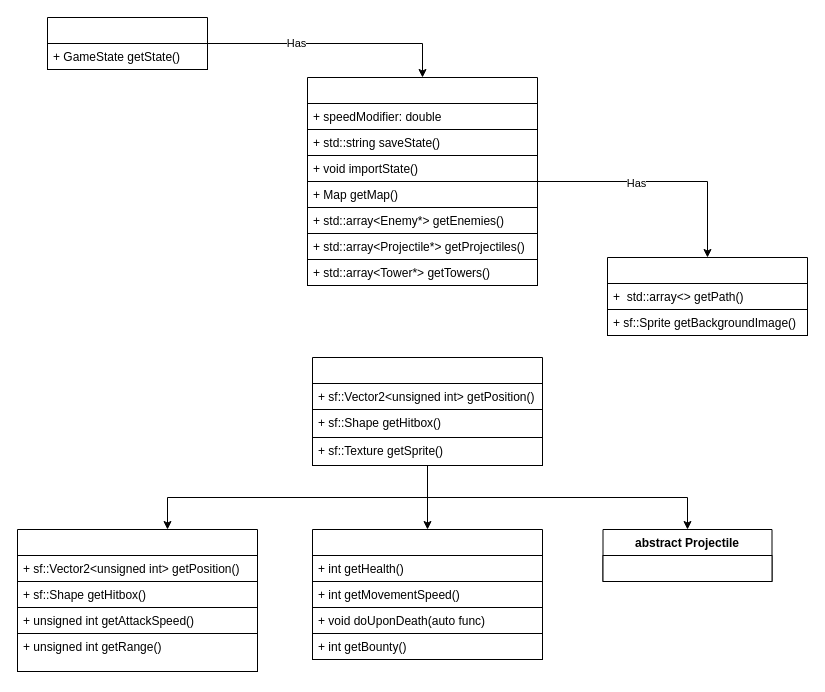
This 825x692 diagram has some shape labels left out. The shapes that lost their labels are listed below. From the top down, each one's box as (x1, y1, x2, y2) in pixels, then its label:
(46, 16, 208, 70): Application
(306, 76, 538, 286): Game
(606, 256, 808, 336): Map
(312, 356, 542, 466): abstract Object
(602, 554, 772, 582): + unsigned int getDamage()
(16, 528, 258, 672): abstract Tower
(312, 528, 542, 660): abstract Enemy
